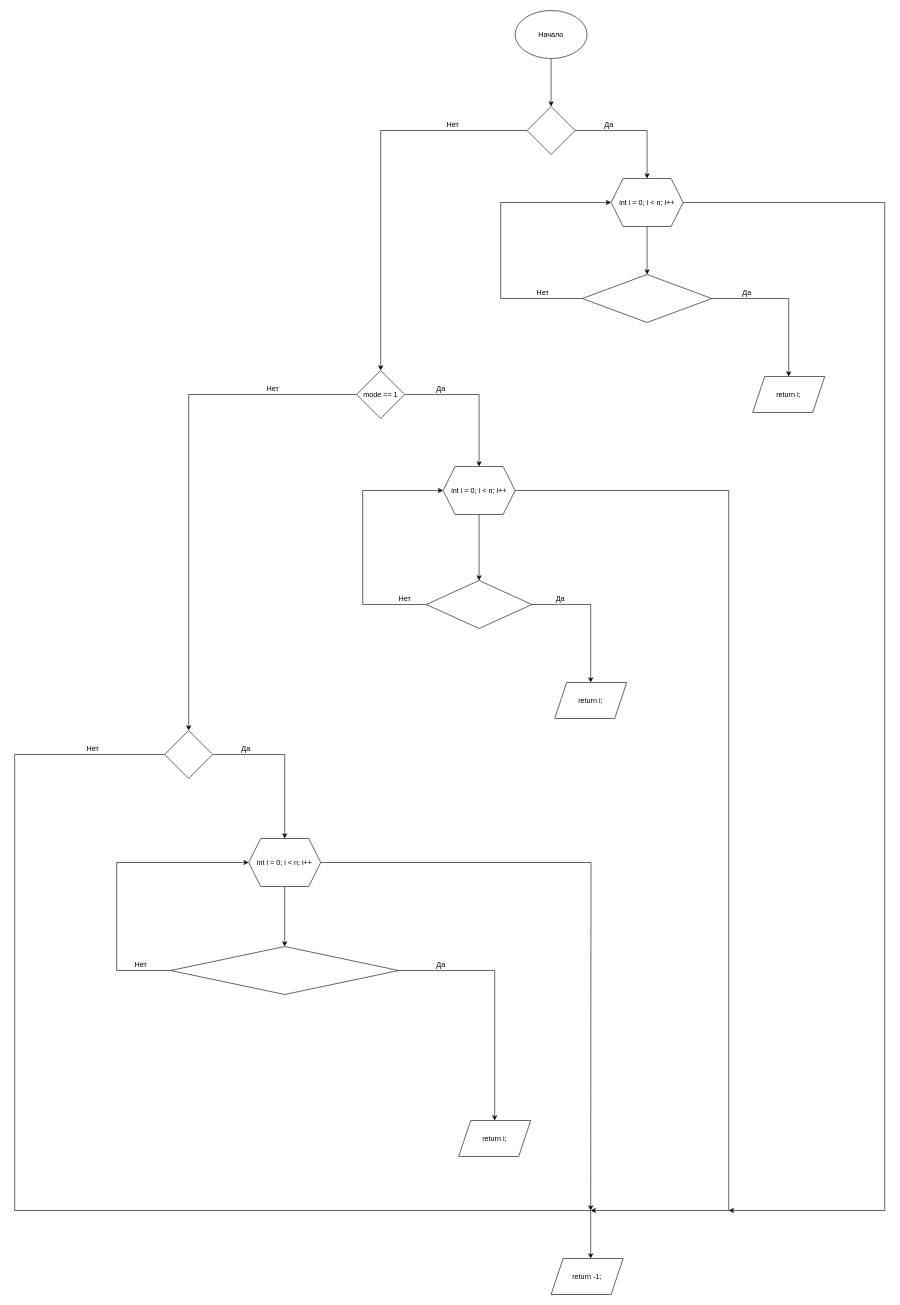
Image size: 900x1305. Some labels were removed from this diagram. The shapes that lost their labels are listed below. From the top down, each one's centre as x and y in pixels, then its label:
At (550,130): "mode == 0".
At (647,298): "Equals(dict[i].engl, word)".
At (479,604): "Equals(dict[i].rus, word)".
At (188,754): "mode == 2".
At (284,970): "Equals(dict[i].engl, word) || Equals(dict[i].rus, word)".
